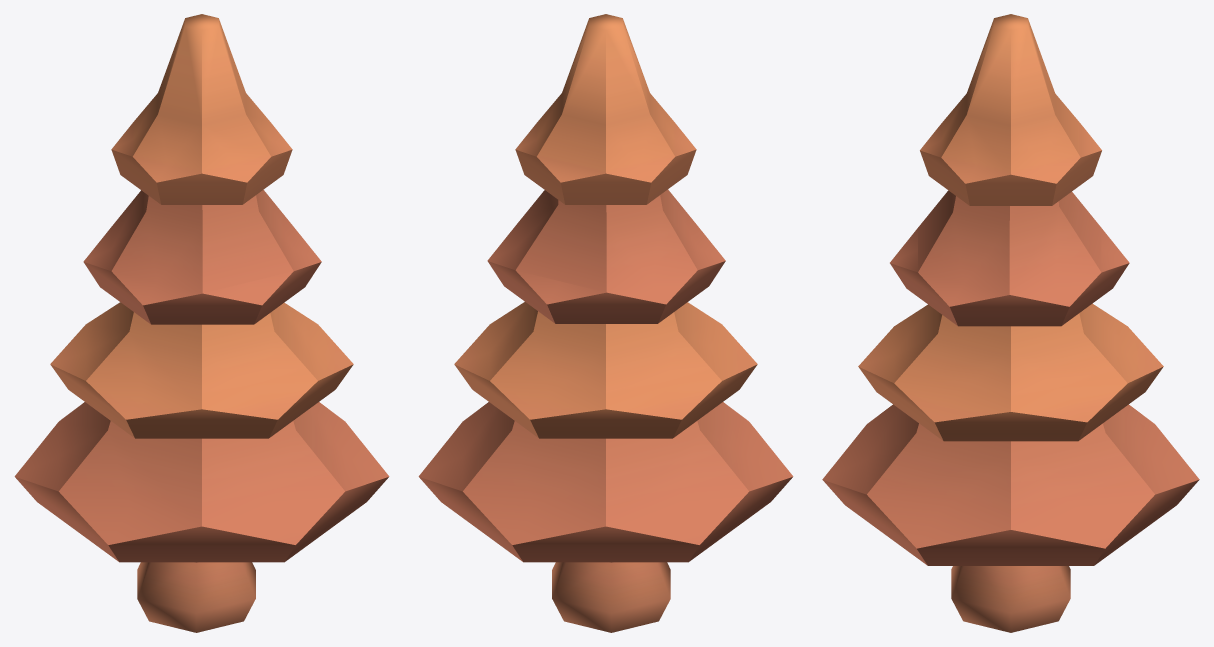
Rendered from kenney-graveyard-pine-fall.glb.
3 views of the same model, side by side, from view 1: azimuth 30°, elevation 25°; view 2: azimuth 150°, elevation 25°; view 3: azimuth 270°, elevation 25° (orthographic).
Visible parts, largest first — view 1: pine-fall; view 2: pine-fall; view 3: pine-fall.
Boxes of the visible parts, x1=… form: pine-fall: x1=14, y1=14, x2=389, y2=632; pine-fall: x1=418, y1=14, x2=793, y2=632; pine-fall: x1=822, y1=14, x2=1199, y2=632.
Bounding box in the file's own units: 1.18 × 2.3 × 1.33.
Materials: 1 (1 with a texture image).
